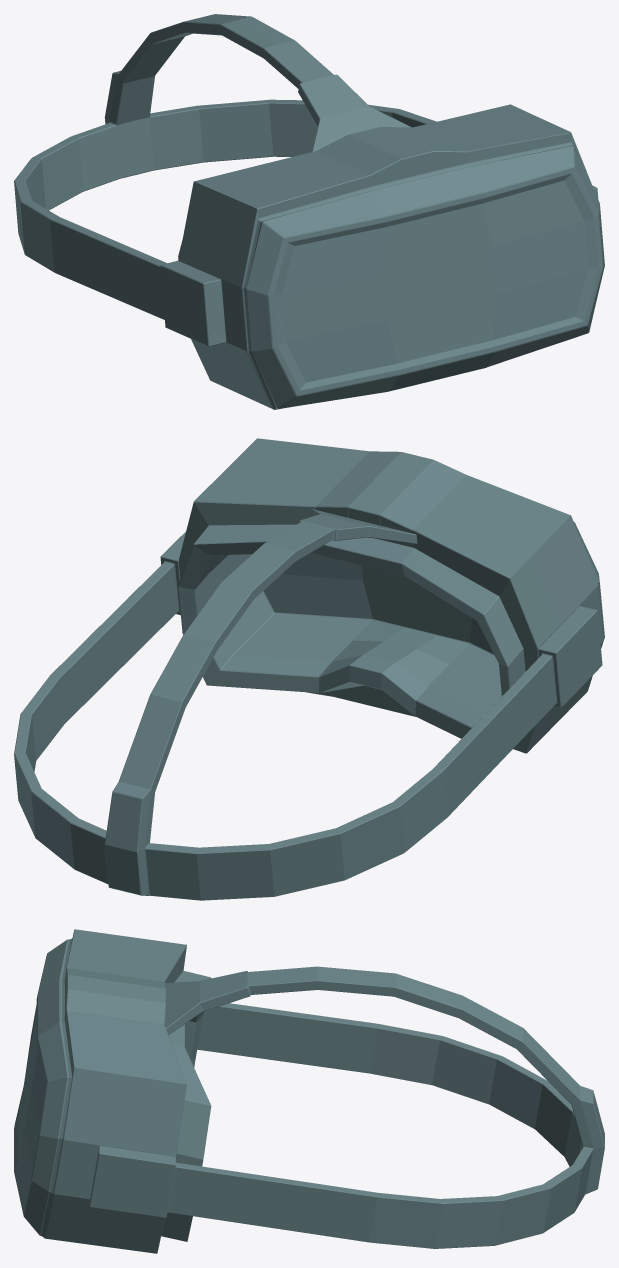
File: GafasVR.fbx
3 views of the same model, one above another, from view 1: azimuth 30°, elevation 25°; view 2: azimuth 150°, elevation 25°; view 3: azimuth 270°, elevation 25° (orthographic). The views are drawn at different scales.
Visible parts, largest first — view 1: Gafas VR; view 2: Gafas VR; view 3: Gafas VR.
Part boxes in pixels (left/top/right/bottom): Gafas VR: left=14, top=14, right=604, bottom=409; Gafas VR: left=14, top=438, right=604, bottom=900; Gafas VR: left=14, top=929, right=604, bottom=1253.
Size of the model in its own units: 28.18 by 16.08 by 40.24.
